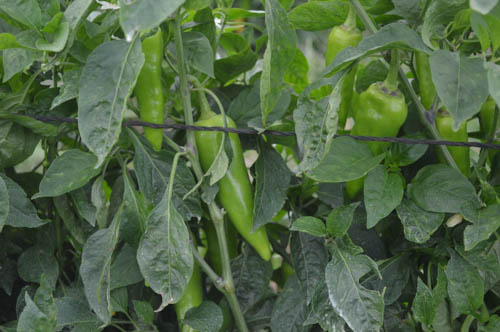ChiliPepper: (191, 116, 269, 261), (342, 87, 397, 196), (127, 31, 167, 150), (313, 28, 358, 128)
